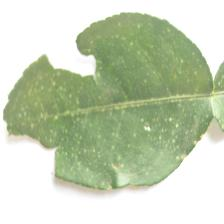canker: (44, 24, 184, 142)
